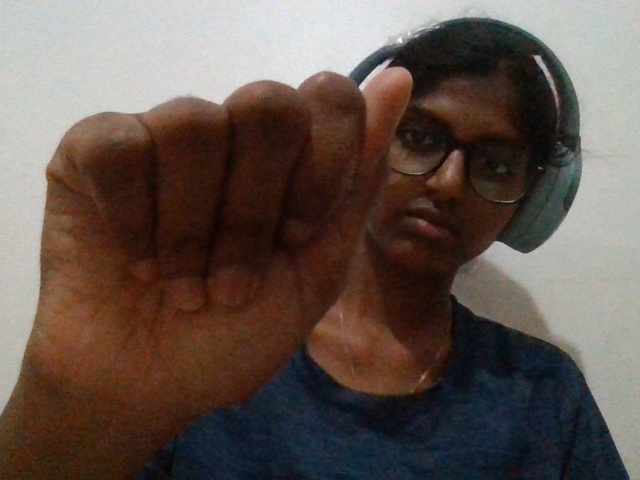A: (2, 38, 422, 477)
